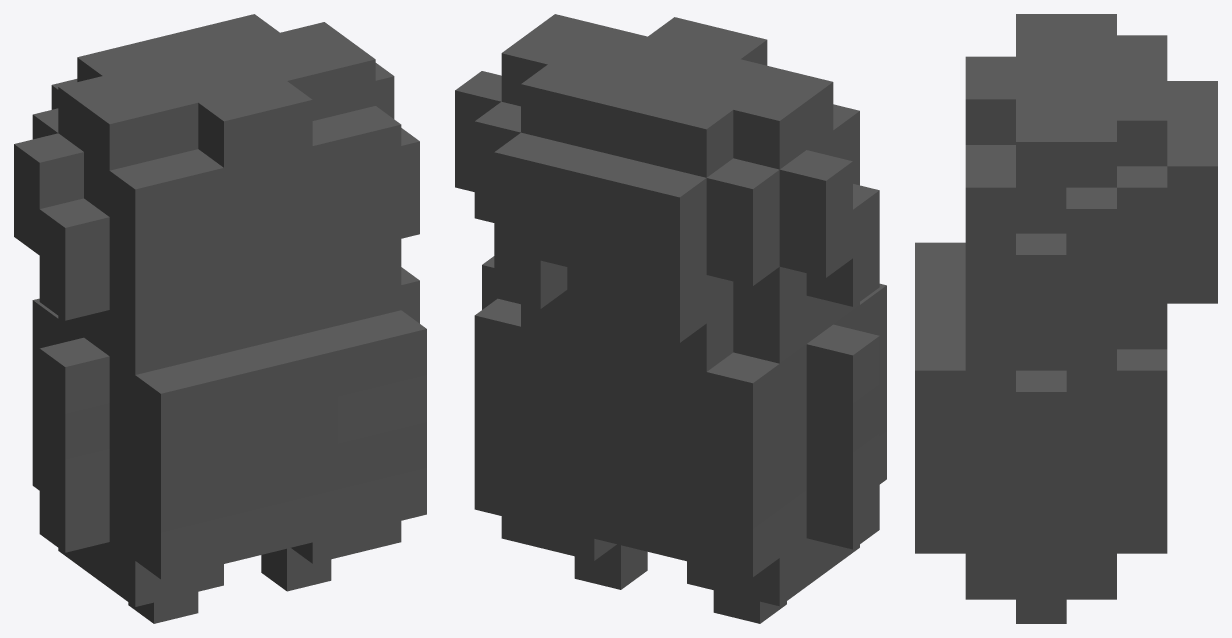
Rendered from chr_paramedic2.obj.
3 views of the same model, side by side, from view 1: azimuth 30°, elevation 25°; view 2: azimuth 150°, elevation 25°; view 3: azimuth 270°, elevation 25° (orthographic). The views are drawn at different scales.
Bounding box in the file's own units: 8 × 11 × 6.
